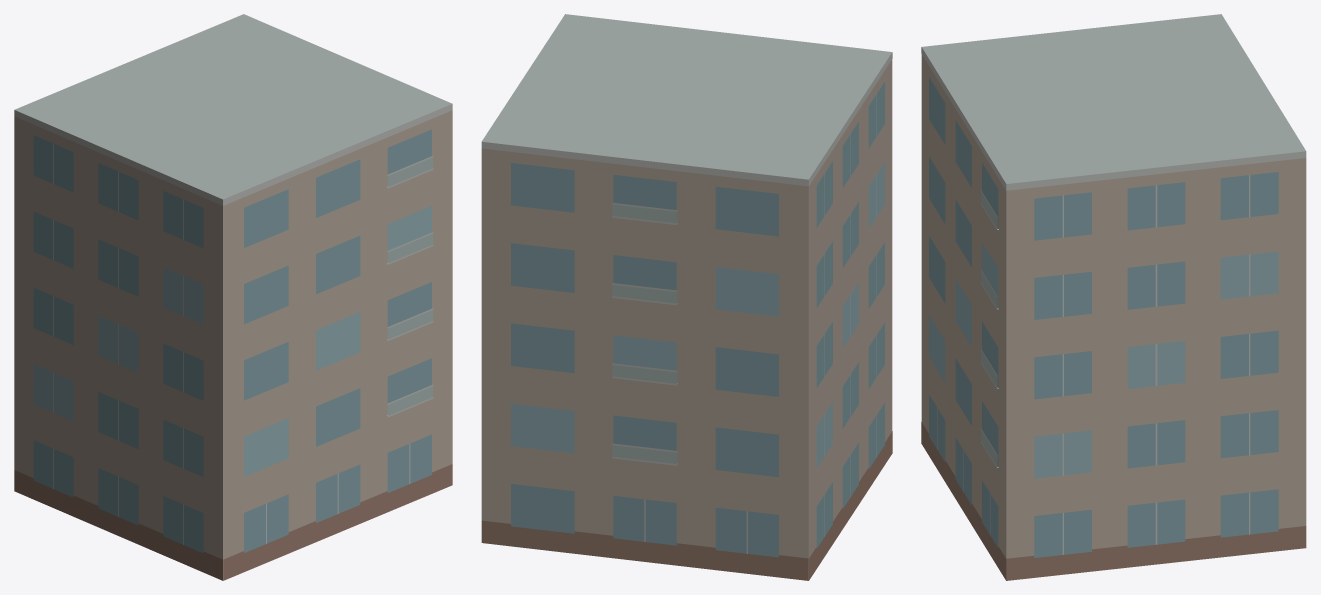
File: survey-upis-32686878.glb
3 renders of one model, left to right at view 1: azimuth 30°, elevation 25°; view 2: azimuth 150°, elevation 25°; view 3: azimuth 270°, elevation 25°, orthographic. The views are drawn at different scales.
Visible parts, largest first — view 1: survey-upis-32686878.tmp; view 2: survey-upis-32686878.tmp; view 3: survey-upis-32686878.tmp.
Boxes of the visible parts, x1,y1,x2,y2 form: survey-upis-32686878.tmp: (14, 14, 452, 580); survey-upis-32686878.tmp: (481, 14, 892, 580); survey-upis-32686878.tmp: (921, 14, 1306, 580).
Bounding box in the file's own units: 13.43 × 14.6 × 12.85.
